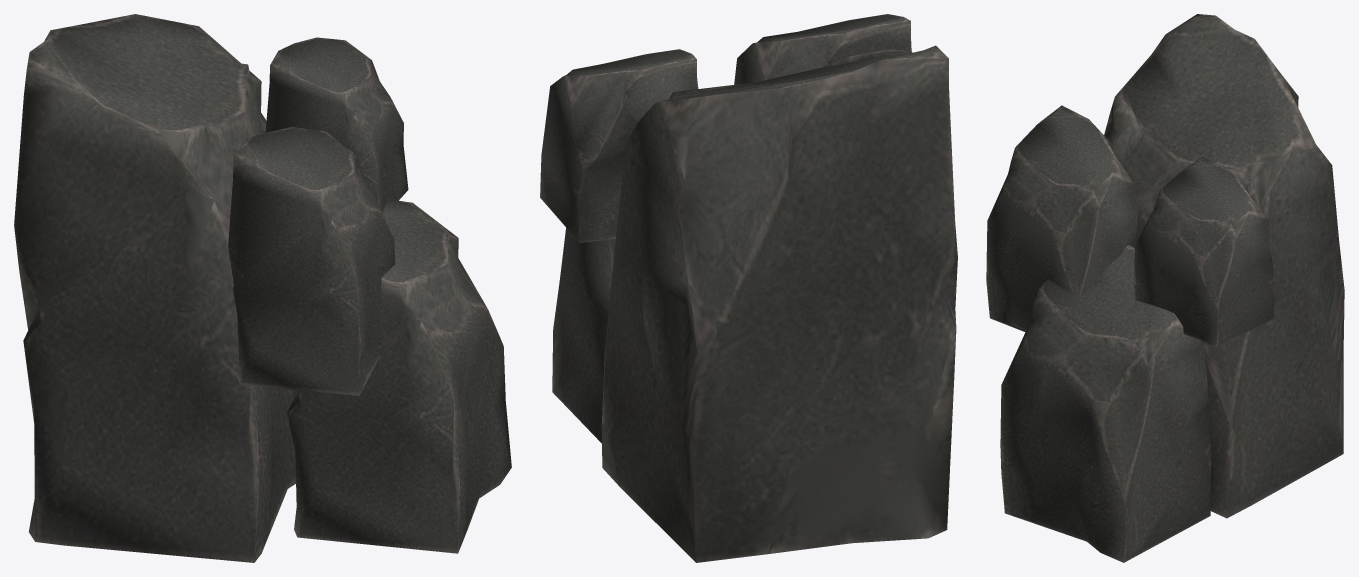
The model's file is cliff_dark_spire.gltf.
3 views of the same model, side by side, from view 1: azimuth 30°, elevation 25°; view 2: azimuth 150°, elevation 25°; view 3: azimuth 270°, elevation 25° (orthographic). The views are drawn at different scales.
Visible parts, largest first — view 1: cliff_dark_spire; view 2: cliff_dark_spire; view 3: cliff_dark_spire.
Boxes of the visible parts, bbox=[...] form: cliff_dark_spire: bbox=[14, 14, 511, 562]; cliff_dark_spire: bbox=[540, 14, 957, 562]; cliff_dark_spire: bbox=[986, 14, 1344, 562].
Size of the model in its own units: 1.18 by 1.2 by 1.02.
1 material, 1 textured.
